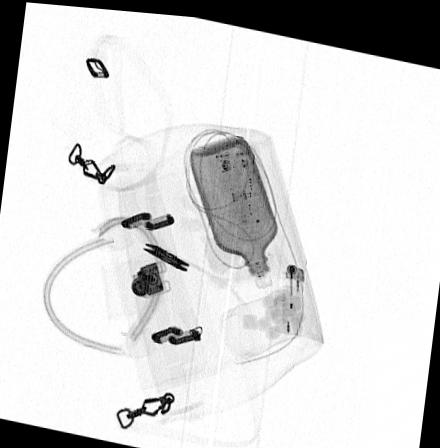Lighter: (278, 257, 304, 329)
